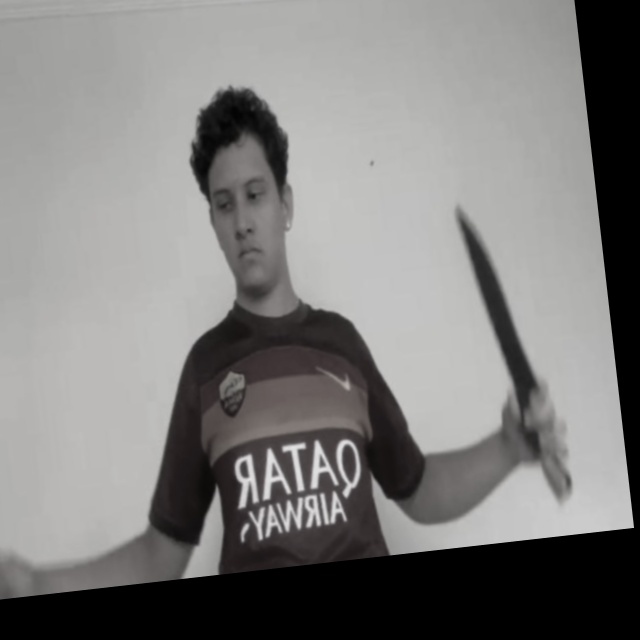Sharp-Object: (452, 196, 538, 394)
